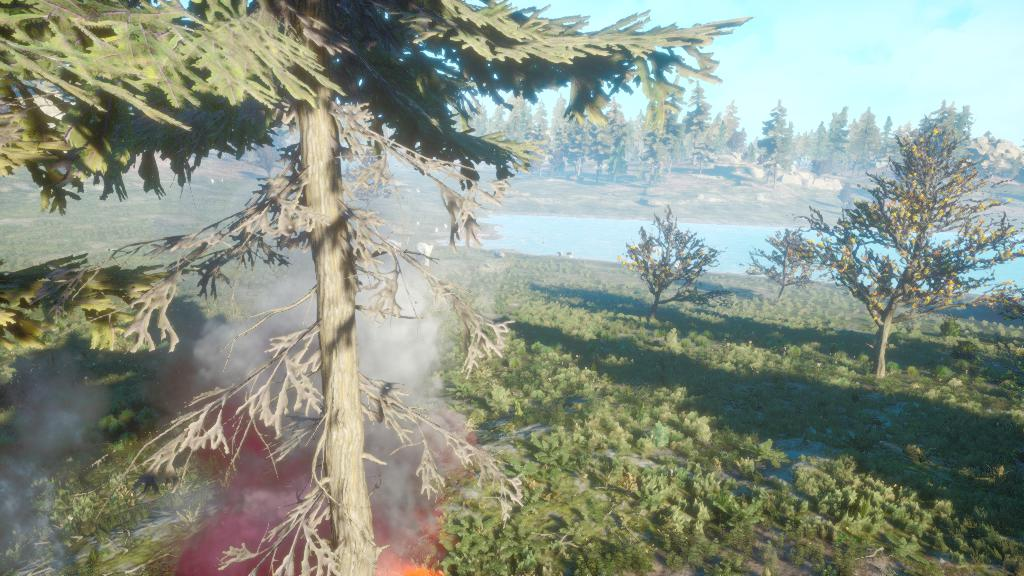smoke: (5, 149, 487, 575)
